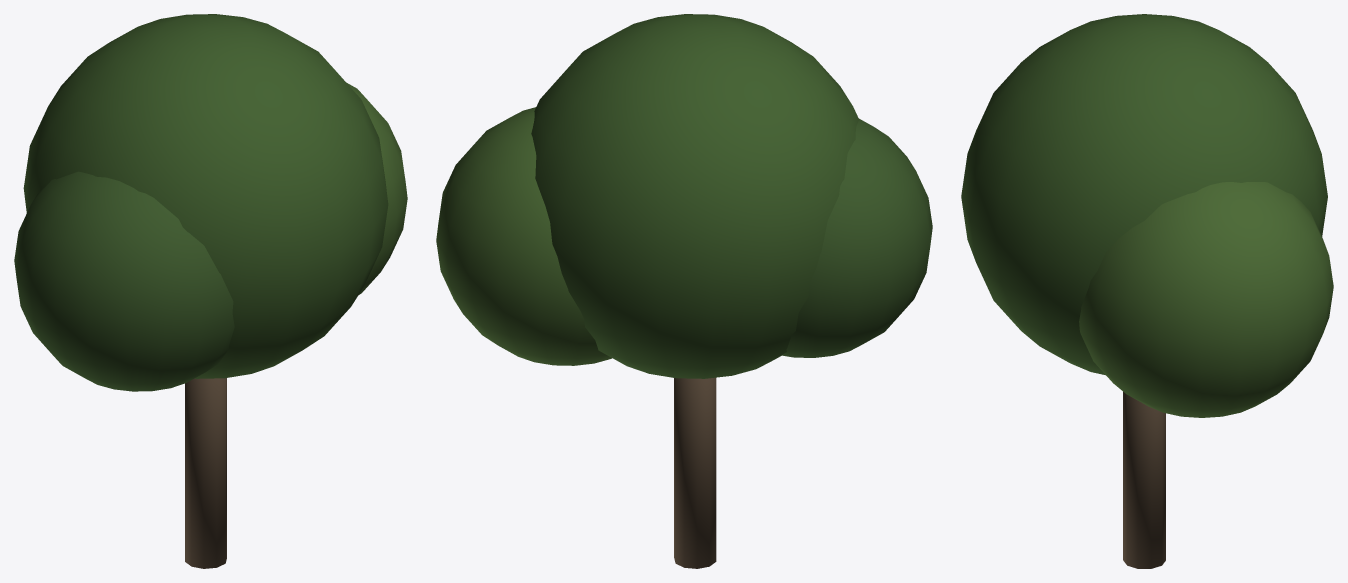
File: Tree_oak.fbx
3 renders of one model, left to right at view 1: azimuth 30°, elevation 25°; view 2: azimuth 150°, elevation 25°; view 3: azimuth 270°, elevation 25°, orthographic.
Visible parts, largest first — view 1: Crown1, Crown3, Trunk, Crown2; view 2: Crown1, Crown2, Crown3, Trunk; view 3: Crown1, Crown2, Trunk.
Boxes of the visible parts, left/top/right/bottom form: Crown1: left=23, top=14, right=388, bottom=378; Crown3: left=14, top=171, right=234, bottom=391; Trunk: left=185, top=378, right=226, bottom=568; Crown2: left=347, top=83, right=407, bottom=294; Crown1: left=531, top=14, right=859, bottom=378; Crown2: left=436, top=107, right=611, bottom=365; Crown3: left=781, top=118, right=932, bottom=357; Trunk: left=674, top=377, right=716, bottom=568; Crown1: left=961, top=14, right=1327, bottom=375; Crown2: left=1079, top=182, right=1333, bottom=417; Trunk: left=1123, top=392, right=1165, bottom=568.
Bounding box in the file's own units: 830 × 650 × 1020.
